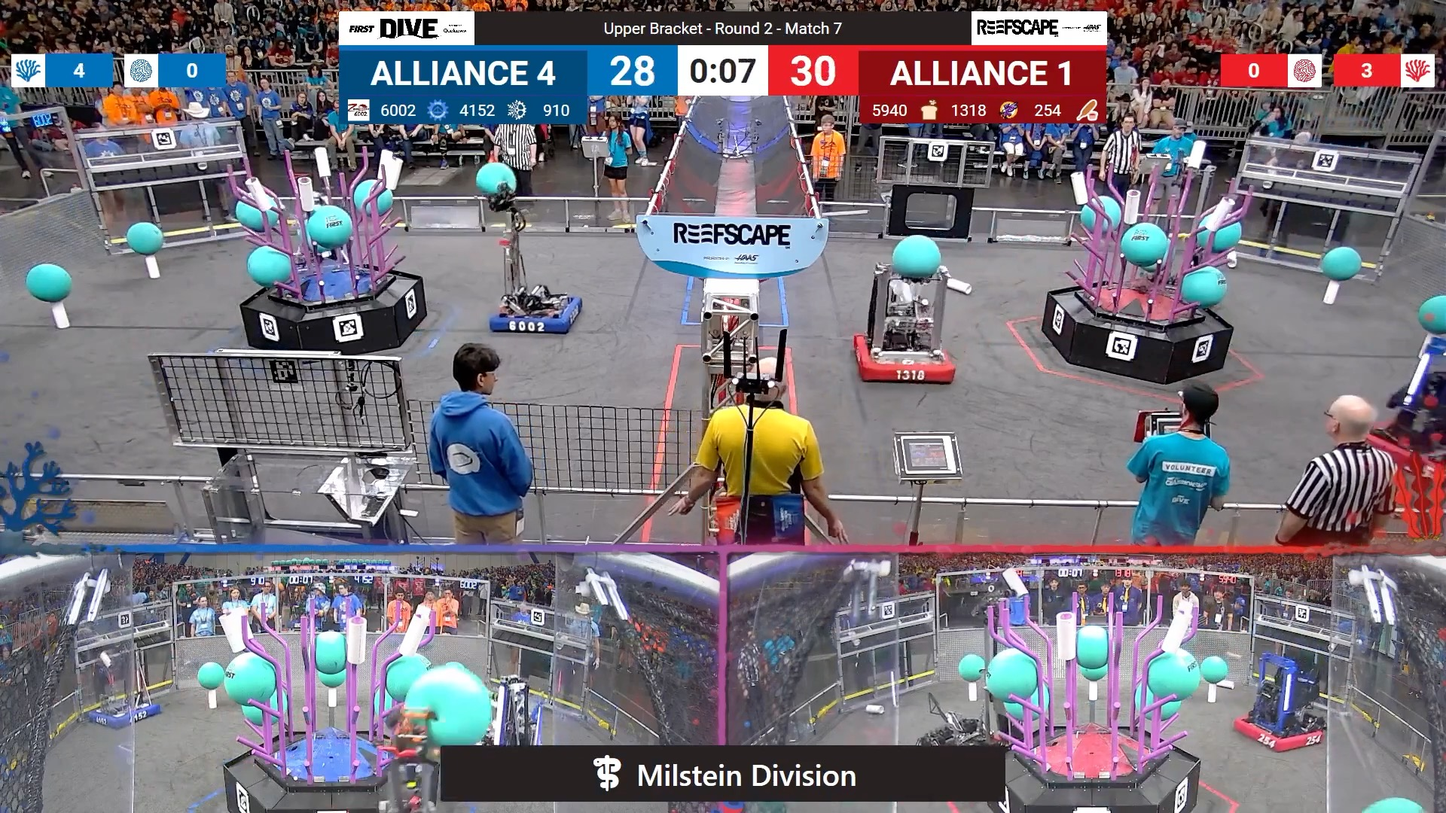bumpers: (845, 329, 964, 393), (1231, 707, 1328, 757), (487, 292, 586, 339), (83, 700, 169, 733)
